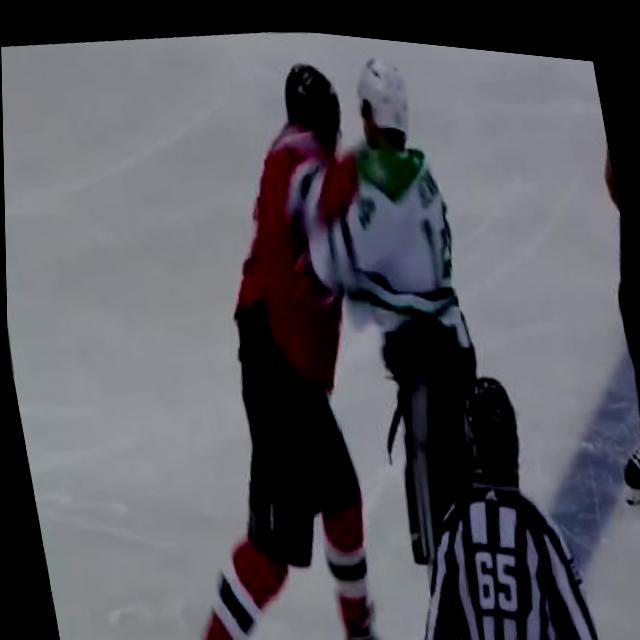fight: (169, 14, 528, 592)
